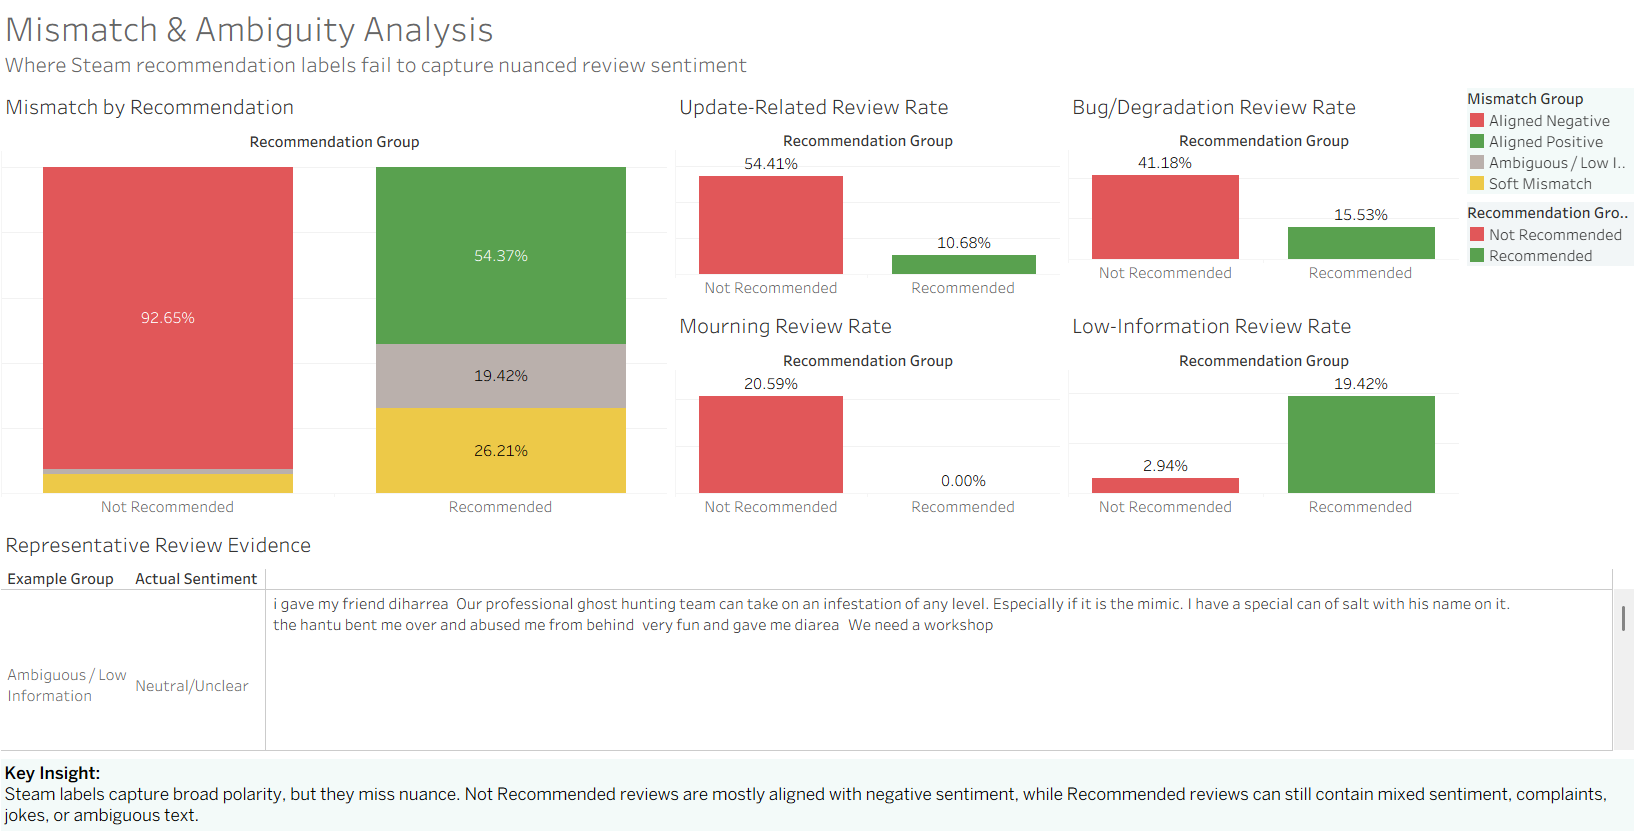

What the dashboard file says about the page in this screenshot:
{"tool":"tableau","page":{"name":"03 Mismatch & Ambiguity Analysis","canvas":[1000,1000],"units":"permille","ordinal":2},"visuals":[{"type":"text","box":[4.8,9.4,990.3,98.7]},{"type":"worksheet","title":"Chart Mismatch by Recommendation","mark":"Bar","cols":["recommendation_group"],"box":[4.8,108.1,406.8,514.7]},{"type":"worksheet","title":"Chart Update-Related Review Rate","mark":"Bar","rows":["Calculation_1049500531728387"],"cols":["recommendation_group"],"box":[411.6,108.1,237.2,257.4]},{"type":"worksheet","title":"Chart  Bug / Degradation Review Rate","mark":"Automatic","rows":["Calculation_1049500532334596"],"cols":["recommendation_group"],"box":[648.8,108.1,240.8,257.4]},{"type":"legend","title":"Chart Mismatch by Recommendation","param":"[federated.1x5f0wu08nq7uu108kq3m199u6nf].[none:mismatch_group:nk]","box":[889.6,108.1,105.6,134]},{"type":"legend","title":"Chart Update-Related Review Rate","param":"[federated.1x5f0wu08nq7uu108kq3m199u6nf].[none:recommendation_group:nk]","box":[889.6,242.1,105.6,84.6]},{"type":"worksheet","title":"Chart Mourning Review Rate","mark":"Automatic","rows":["Calculation_1049500532412421"],"cols":["recommendation_group"],"box":[411.6,365.5,237.2,257.3]},{"type":"worksheet","title":"Chart Low-Information Review Rate","mark":"Automatic","rows":["Calculation_1049500532469766"],"cols":["recommendation_group"],"box":[648.8,365.5,240.8,257.3]},{"type":"worksheet","title":"Representative Review Examples","mark":"Text","rows":["example_group","actual_sentiment"],"box":[4.8,622.8,990.3,273.8]},{"type":"text","box":[4.8,896.6,990.3,94]}]}

Visuals, with their boxes on the dashboard's canvas, which has no fixed pixel size, in thousandths of its width and height (x1, y1, x2, y2). These are canvas units, not pixel positions in the 1638x835 screenshot, which may show the page scaled, cropped or inside an application window:
text: (5, 9, 995, 108)
"Chart Mismatch by Recommendation" worksheet (Bar marks): (5, 108, 412, 623)
"Chart Update-Related Review Rate" worksheet (Bar marks): (412, 108, 649, 366)
"Chart  Bug / Degradation Review Rate" worksheet: (649, 108, 890, 366)
"Chart Mismatch by Recommendation" legend: (890, 108, 995, 242)
"Chart Update-Related Review Rate" legend: (890, 242, 995, 327)
"Chart Mourning Review Rate" worksheet: (412, 366, 649, 623)
"Chart Low-Information Review Rate" worksheet: (649, 366, 890, 623)
"Representative Review Examples" worksheet (Text marks): (5, 623, 995, 897)
text: (5, 897, 995, 991)
